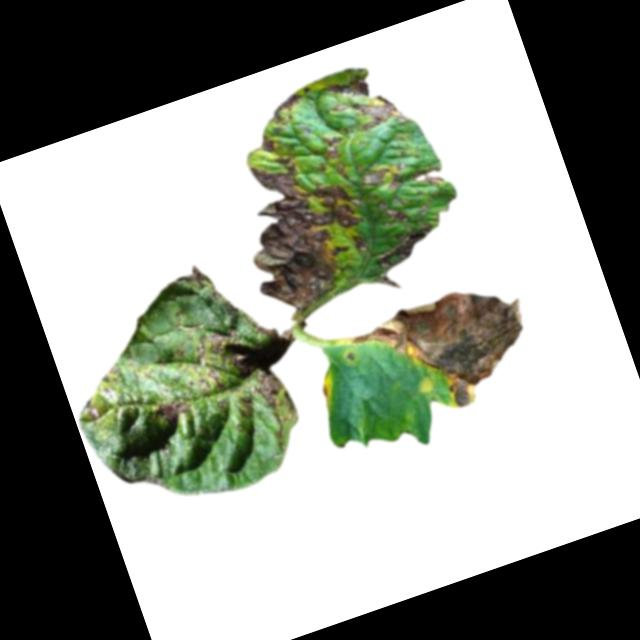Early_blight: (220, 136, 388, 324), (357, 268, 547, 431), (181, 297, 315, 448), (358, 188, 445, 279), (350, 88, 406, 134), (355, 159, 410, 201), (327, 73, 374, 108), (267, 92, 307, 127), (155, 396, 190, 428), (410, 162, 446, 193), (176, 261, 210, 288), (314, 372, 339, 404), (255, 132, 279, 159)
